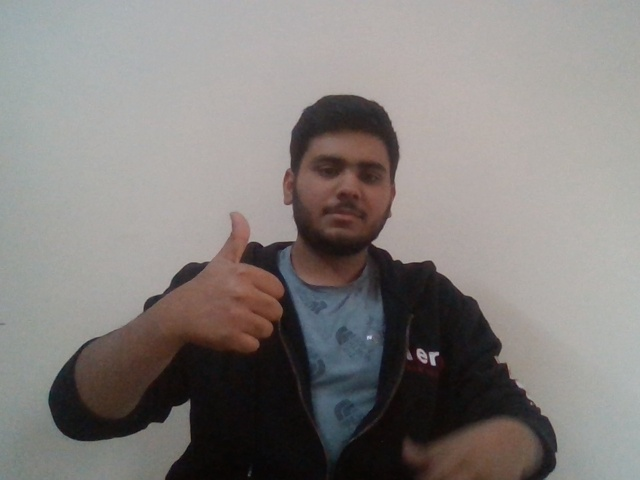Yes: (177, 201, 286, 357)
